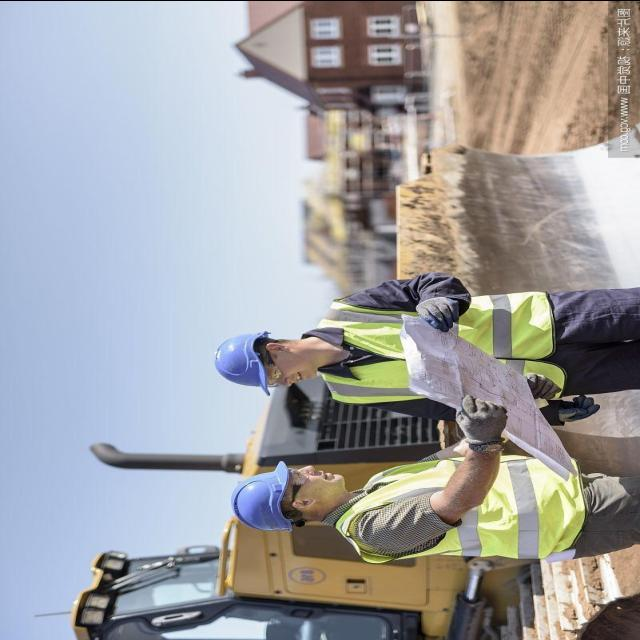helmet: (220, 458, 300, 534), (208, 322, 276, 399)
jacket: (308, 290, 572, 411), (334, 444, 580, 567)
